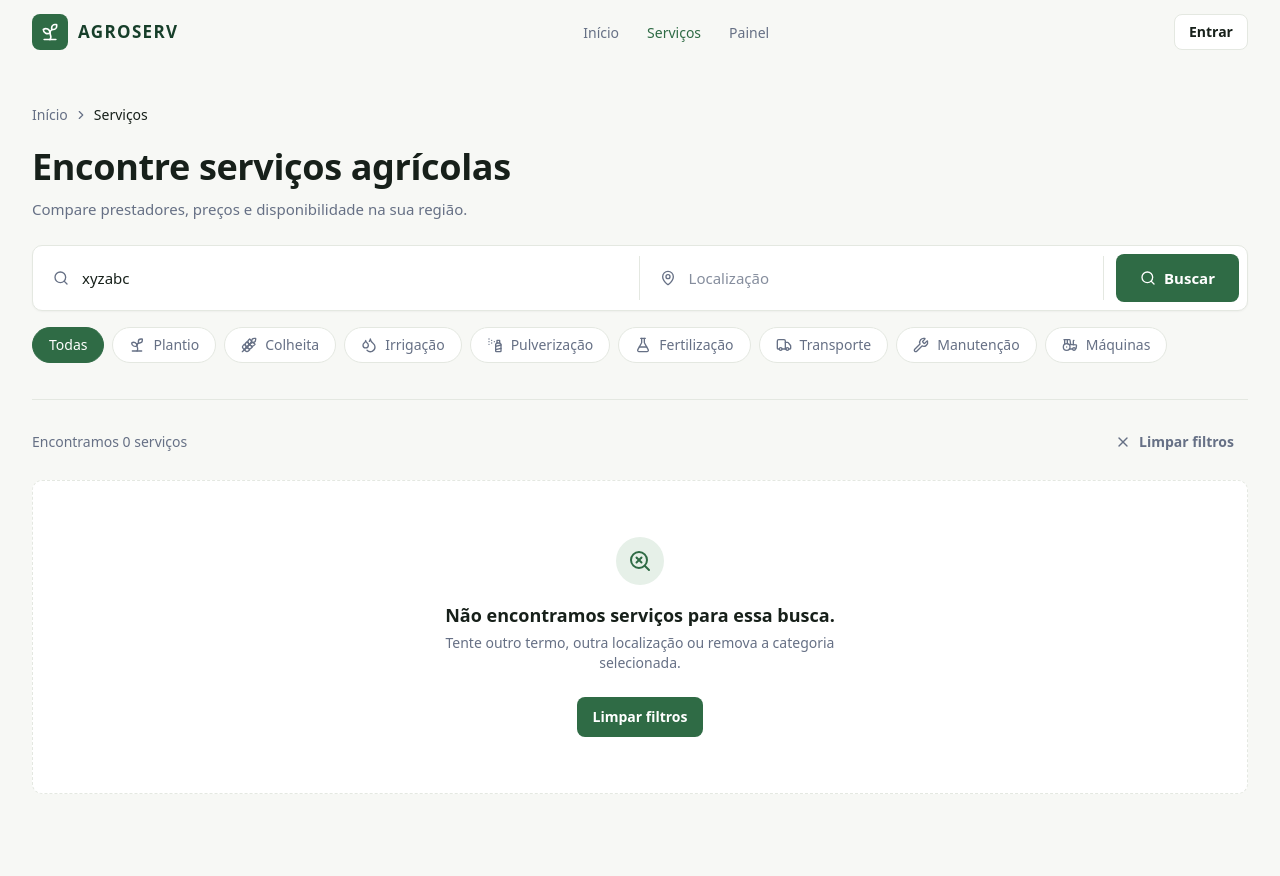
Scenario: ServicesPage › shows the empty state and clears filters
The image size is (1280, 876).
Expected: the heading "Não encontramos serviços para essa busca." is shown, [445,601,835,629]
Click the button "Limpar filtros" in the row of "Encontramos 0 serviços". click: point(1174, 442)
box: [1101,424,1248,460]
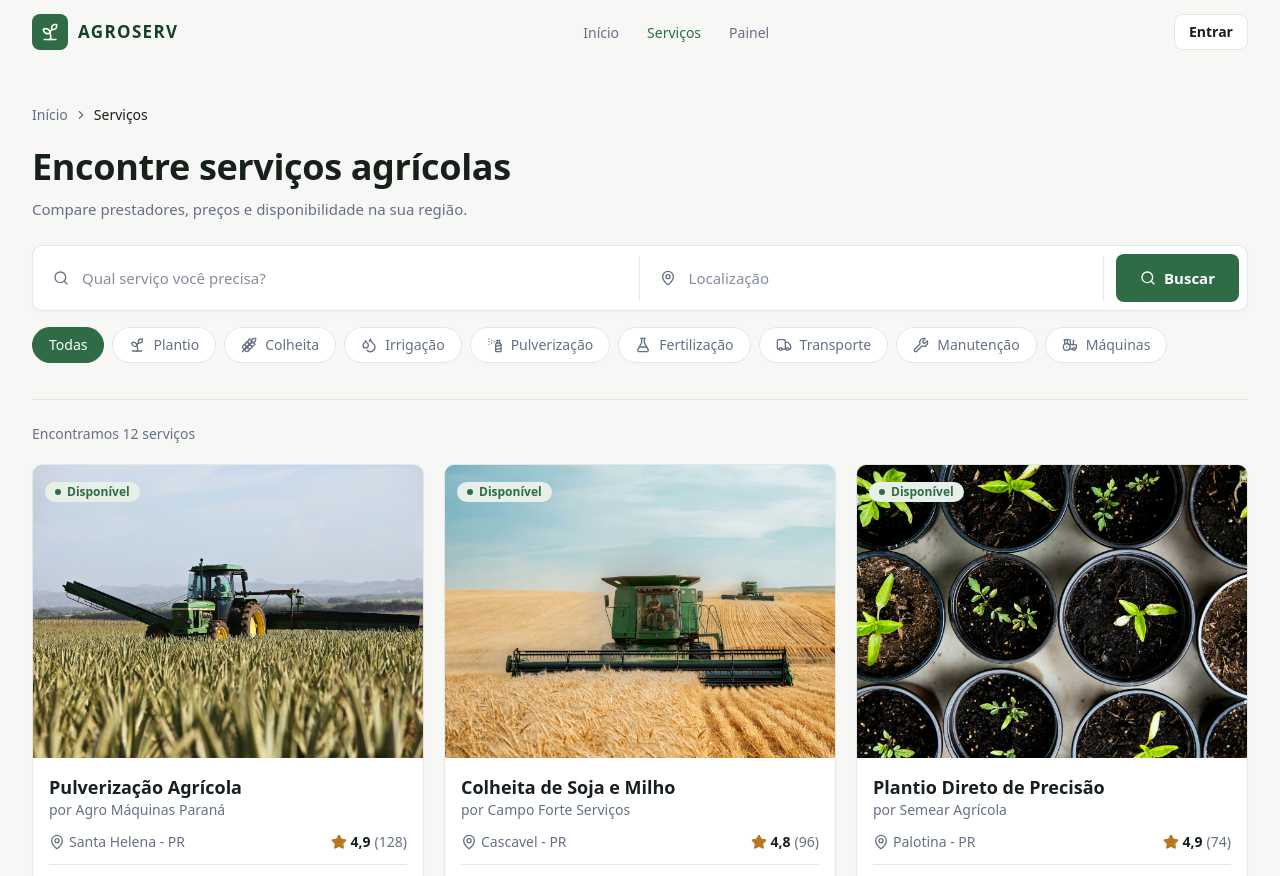
Now the text "Encontramos 12 serviços" is shown, box [32,424,195,444]
Now the field labelled "Qual serviço você precisa?" is empty, box [41,256,635,300]
